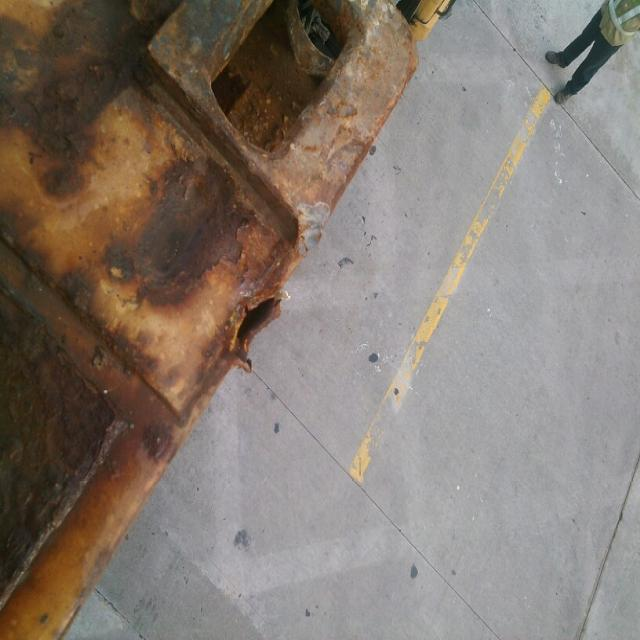hole: (227, 291, 287, 377)
